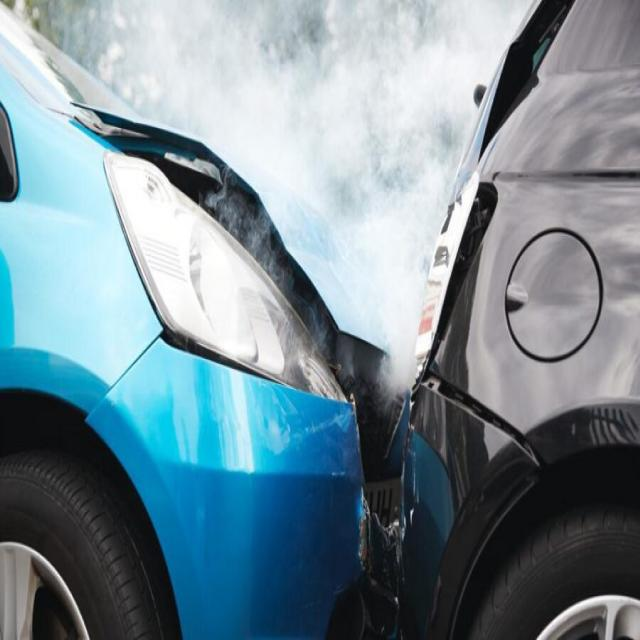accident: (119, 42, 546, 622)
